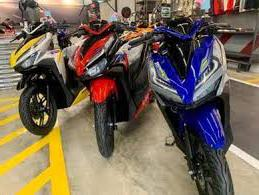motorcycle: (139, 4, 248, 195), (7, 8, 115, 143), (70, 9, 161, 164)
